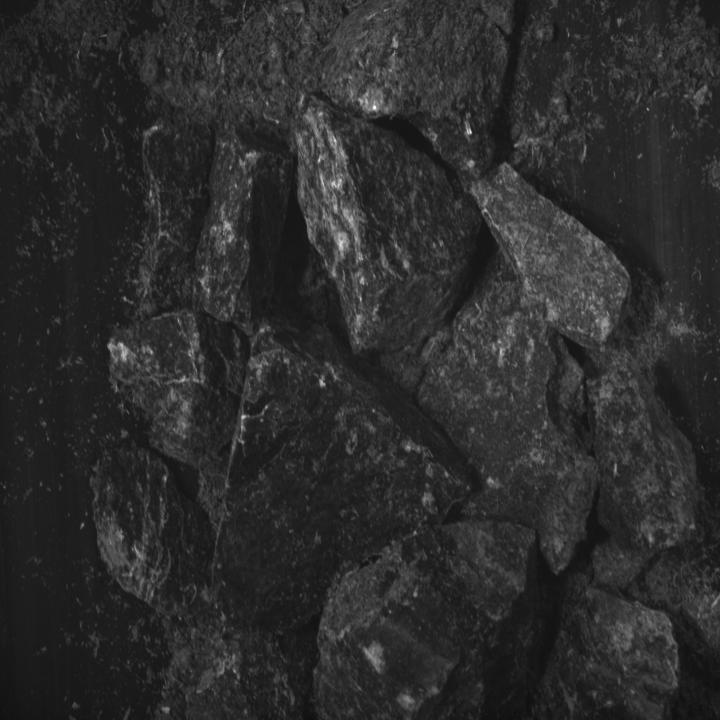stone: (197, 318, 476, 626), (412, 250, 601, 570), (297, 94, 482, 361), (313, 519, 555, 720), (314, 0, 516, 174), (458, 163, 632, 353), (107, 308, 246, 470), (587, 348, 698, 549), (530, 572, 678, 720), (92, 439, 213, 615), (194, 130, 293, 341), (181, 592, 320, 720), (136, 122, 213, 310), (592, 539, 656, 585)
